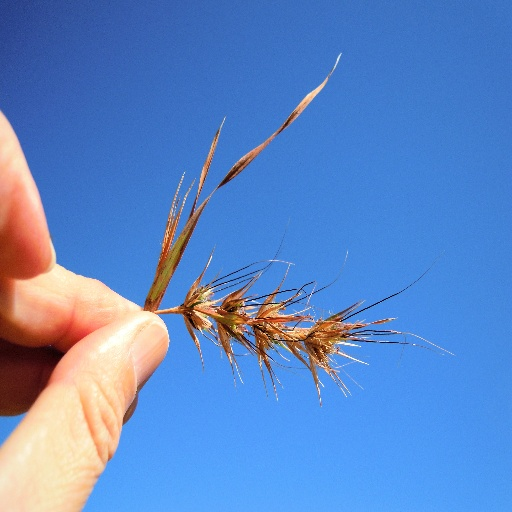hand: (6, 133, 147, 442)
